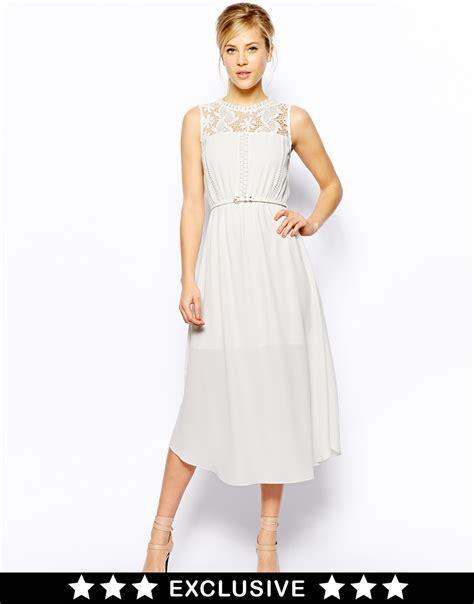dress: (167, 96, 341, 487)
